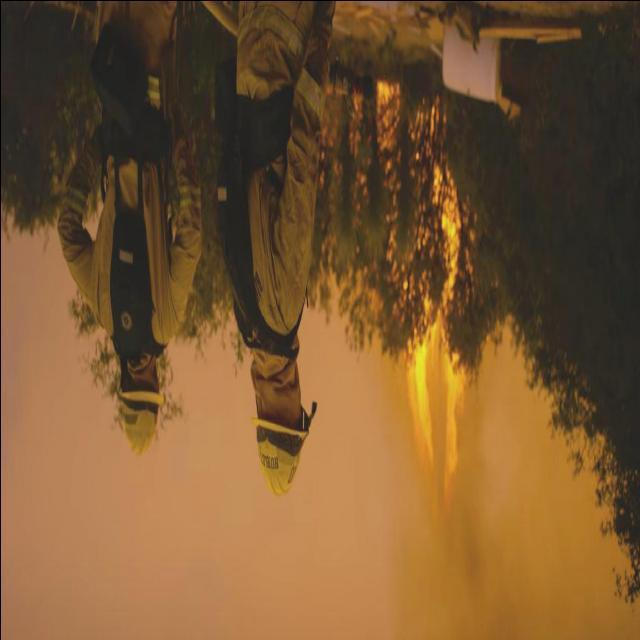Fire: (366, 71, 478, 529)
